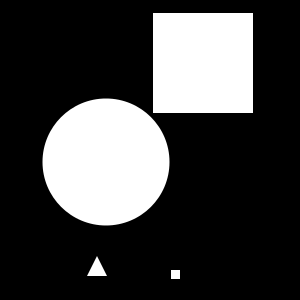circle: (153, 13, 253, 113), (171, 270, 180, 279)
rectangle: (42, 99, 169, 226)
triangle: (87, 256, 107, 276)
